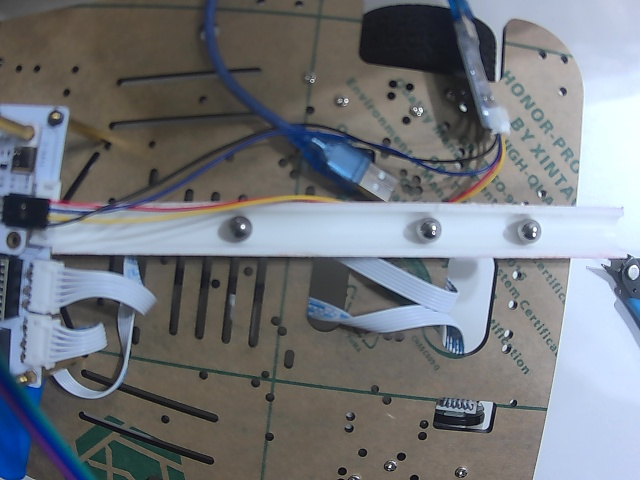steelball: (227, 216, 252, 240), (518, 219, 542, 243), (417, 218, 440, 241)
